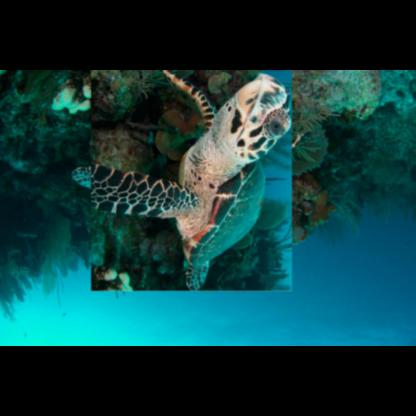turtle: (81, 70, 301, 280)
